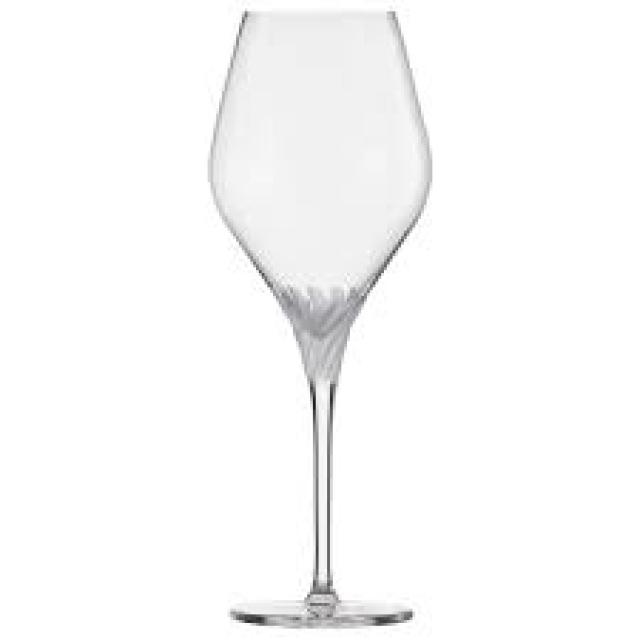glass: (205, 3, 429, 623)
